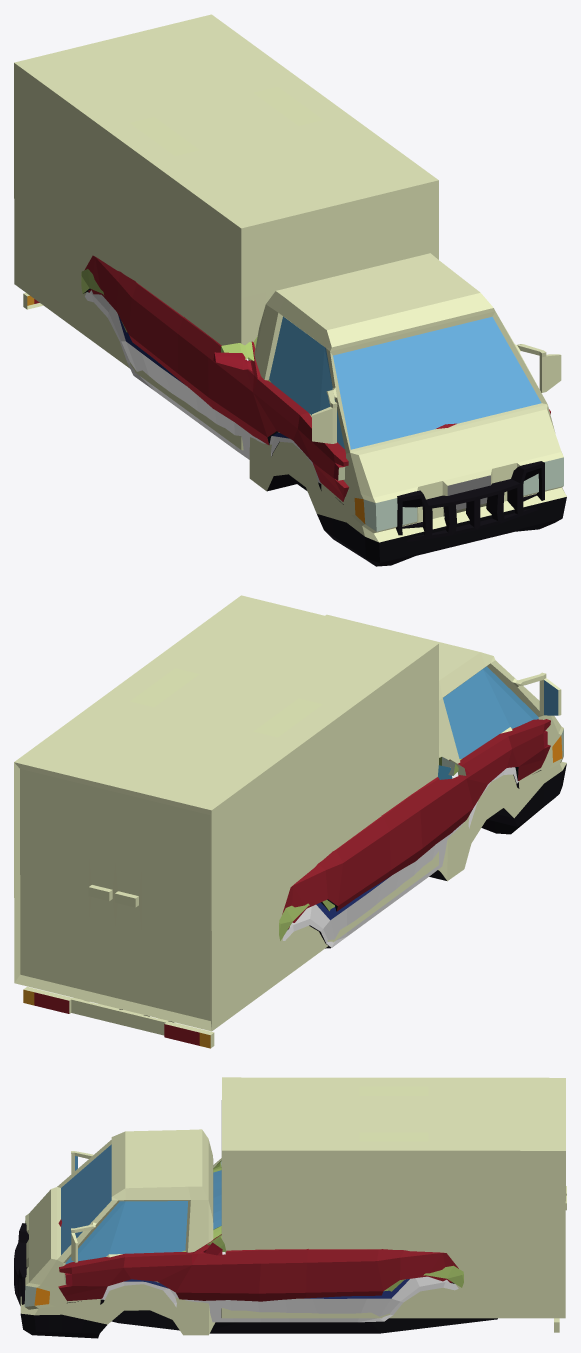
Rendered from Cars.fbx.
3 renders of one model, top to bottom at view 1: azimuth 30°, elevation 25°; view 2: azimuth 150°, elevation 25°; view 3: azimuth 270°, elevation 25°, orthographic. The views are drawn at different scales.
Parts seen in each view (by area): view 1: Porter, SportCar, Police, CommonCar; view 2: Porter, SportCar, Police, CommonCar; view 3: Porter, SportCar, Police, CommonCar.
Part boxes in pixels (bbox=[...]): Porter: bbox=[14, 14, 566, 566]; SportCar: bbox=[84, 255, 550, 504]; Police: bbox=[85, 290, 544, 541]; CommonCar: bbox=[81, 269, 270, 382]; Porter: bbox=[14, 595, 566, 1048]; SportCar: bbox=[282, 719, 550, 929]; Police: bbox=[282, 765, 519, 948]; CommonCar: bbox=[279, 757, 461, 940]; Porter: bbox=[20, 1077, 566, 1338]; SportCar: bbox=[58, 1158, 458, 1303]; Police: bbox=[14, 1223, 458, 1322]; CommonCar: bbox=[182, 1160, 463, 1291].
Bounding box in the file's own units: 1.96 × 1.99 × 4.87.
